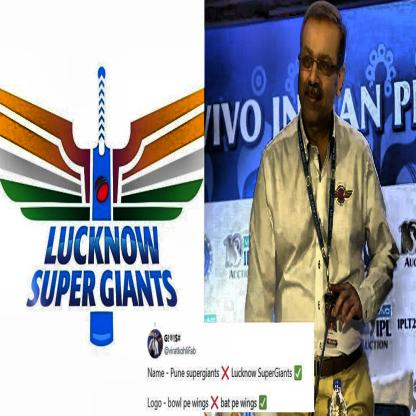Lucknow Super Giants: (2, 55, 203, 345)
